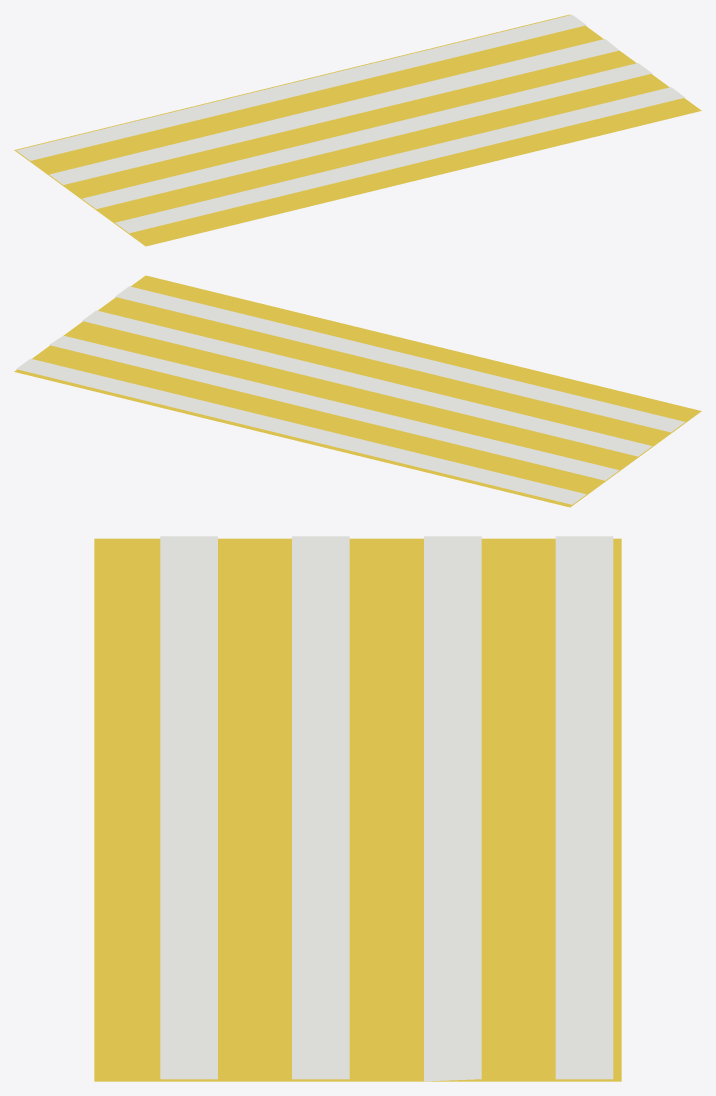
Rendered from cidade_S03_04.gltf.
The picture shows the model from 3 angles, top to bottom: view 1: azimuth 30°, elevation 25°; view 2: azimuth 150°, elevation 25°; view 3: azimuth 270°, elevation 25°; orthographic projection. The views are drawn at different scales.
Parts seen in each view (by area): view 1: S03_04_Estatico; view 2: S03_04_Estatico; view 3: S03_04_Estatico.
Boxes of the visible parts, x1=… form: S03_04_Estatico: x1=14, y1=14, x2=701, y2=246; S03_04_Estatico: x1=14, y1=275, x2=701, y2=507; S03_04_Estatico: x1=94, y1=536, x2=621, y2=1081.
Bounding box in the file's own units: 7.8 × 0.016 × 3.2.
